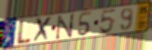5: (99, 8, 118, 35), (76, 11, 93, 38)
9: (120, 7, 135, 32)
L: (14, 19, 33, 46)
N: (55, 12, 75, 41)
X: (32, 15, 53, 44)
